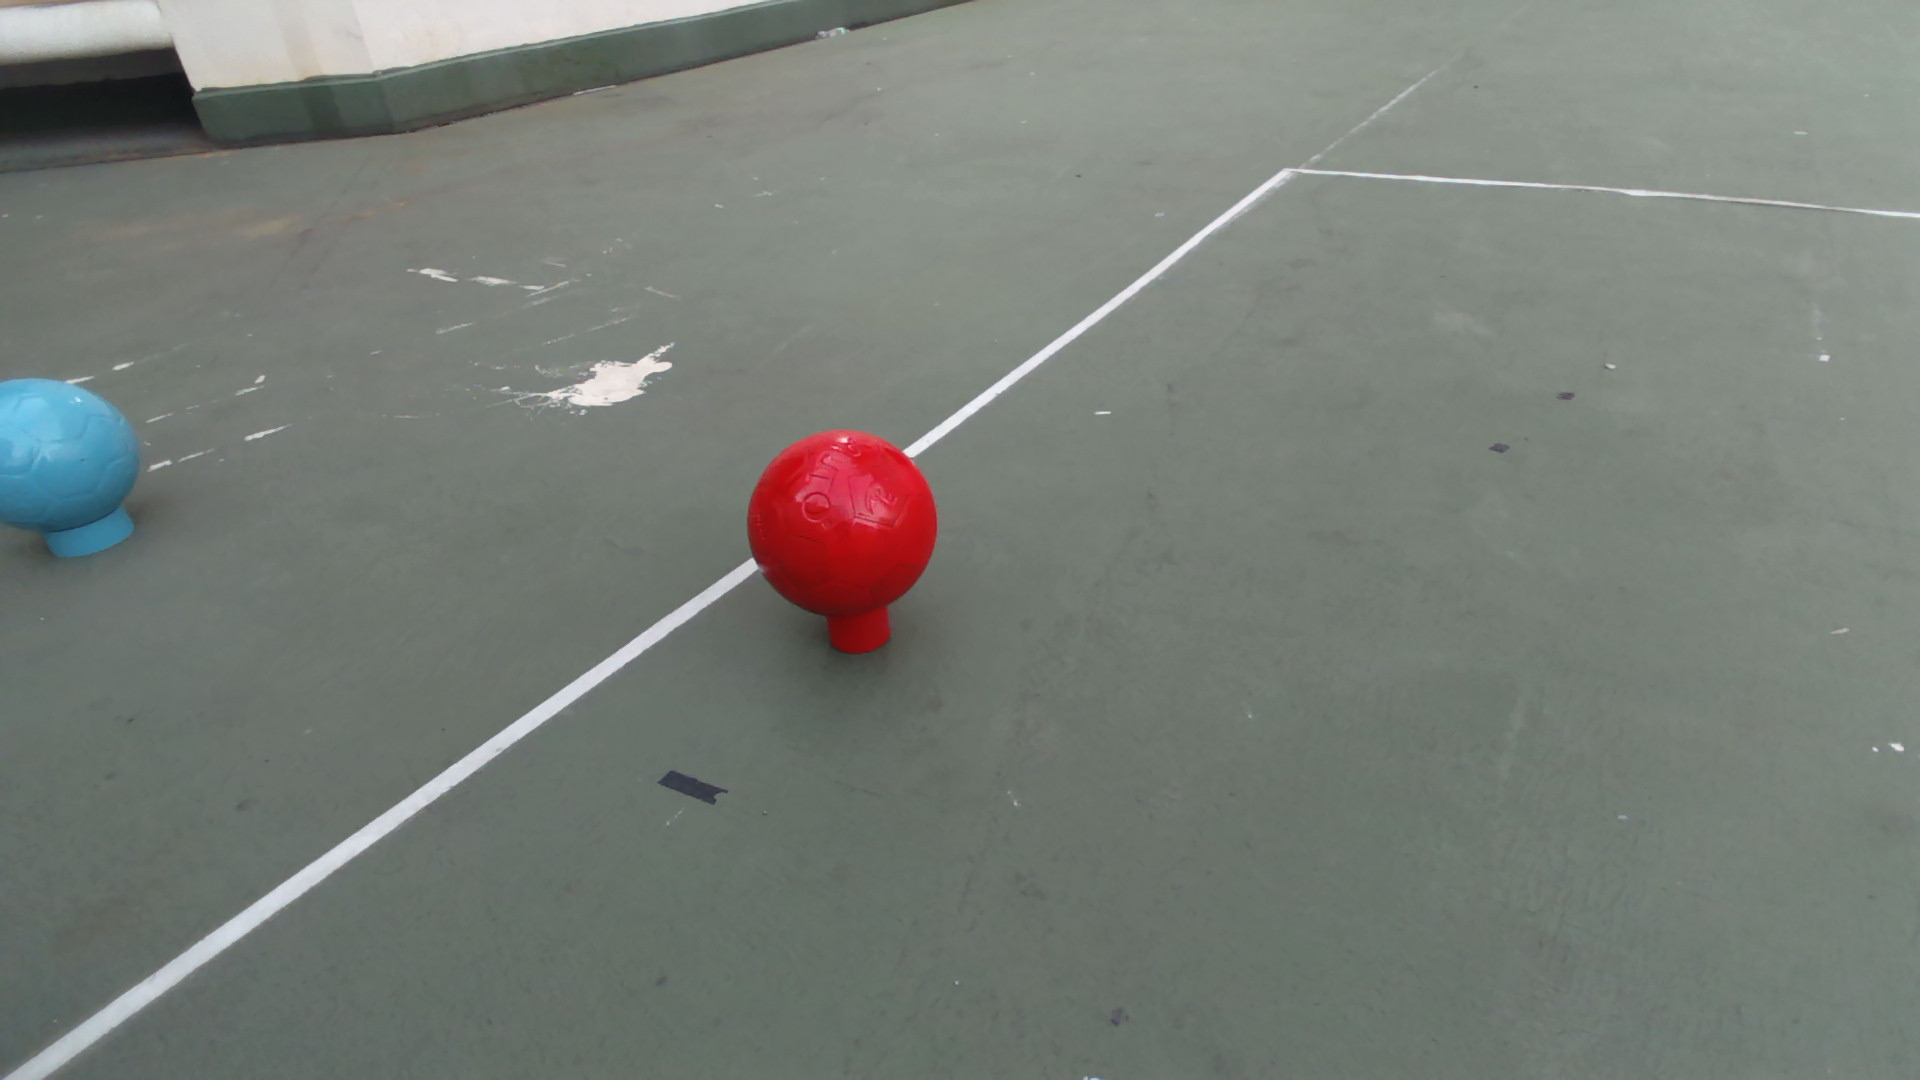Blue ball: (1, 376, 142, 535)
Red ball: (745, 426, 940, 618)
